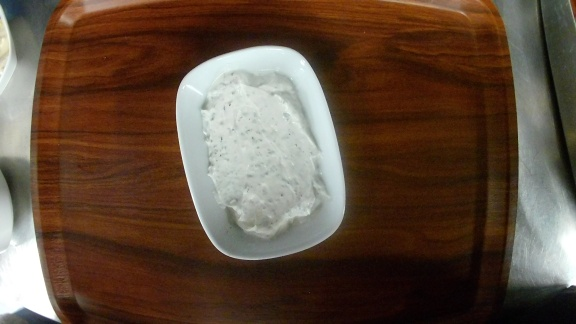haydari: (176, 46, 348, 260)
